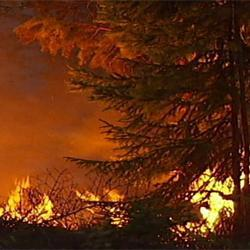fire: (194, 175, 234, 221), (37, 190, 56, 222)
